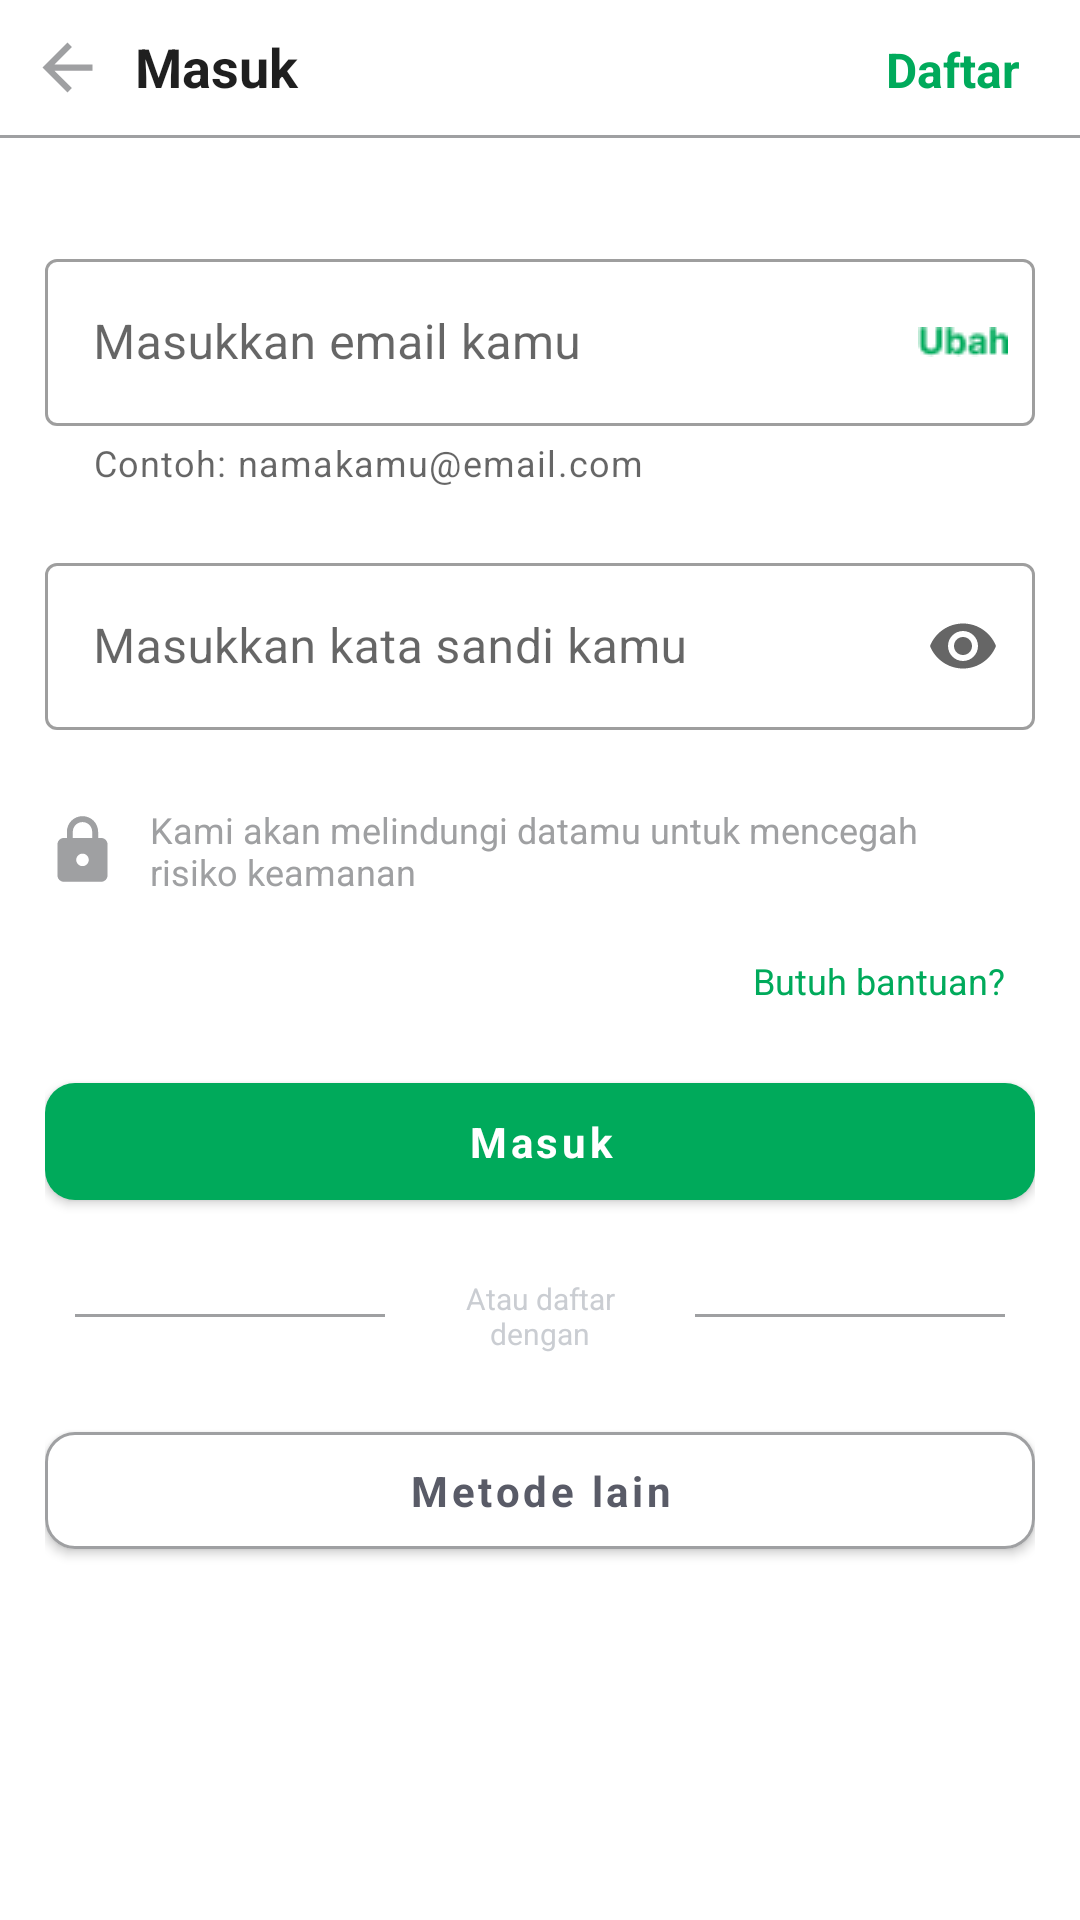

Icons on this 1080px x 1920px Android screen, each with its box as box(x1, y1, x2, y2):
back: box(43, 43, 93, 92)
lock: box(57, 816, 108, 882)
